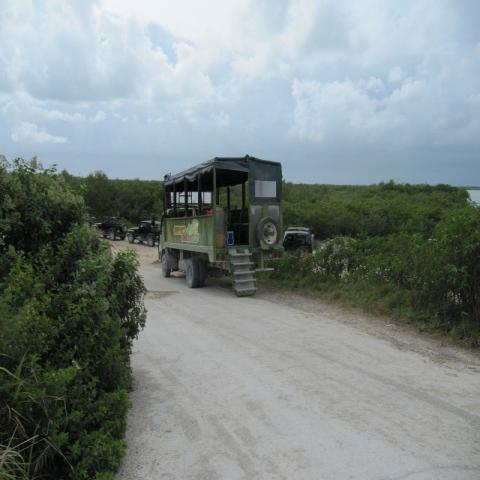bus: (158, 155, 286, 297)
car: (126, 220, 162, 248), (94, 216, 129, 241), (283, 226, 314, 253)
truck: (157, 156, 285, 297)
